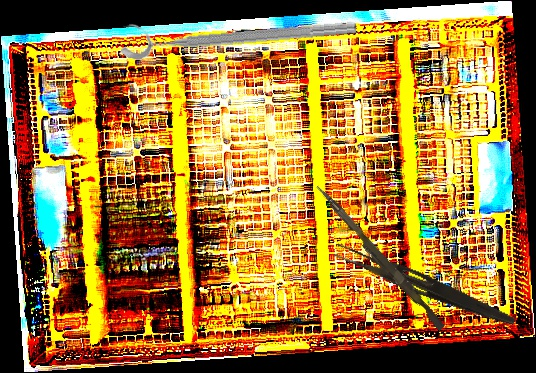Dressing Forceps: (330, 242, 520, 329)
Fixation Ring: (118, 1, 358, 62)
Pusher: (310, 183, 449, 332)
